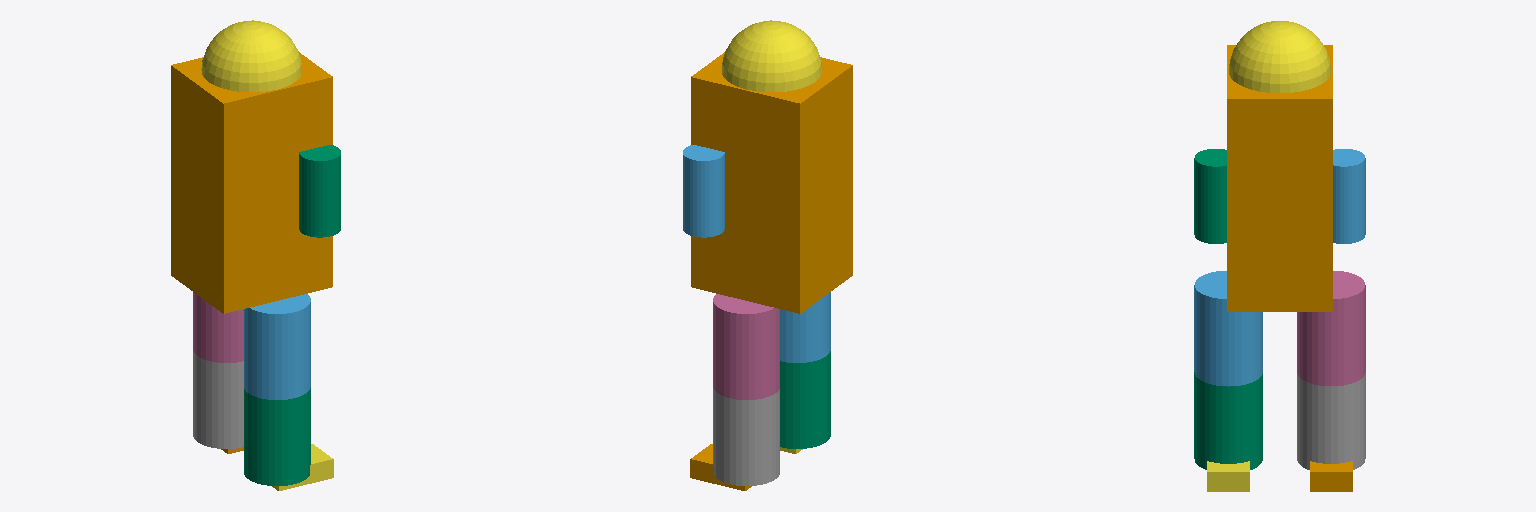
The robot description file, URDF, robot "humanoid_biped":
<?xml version="1.0"?>
<robot name="humanoid_biped">

<!-- ========================================== -->
<!-- 躯干 base_link -->
<!-- ========================================== -->
<link name="base_link">
  <inertial>
    <mass value="8.0"/>
    <inertia ixx="0.3" ixy="0.0" ixz="0.0" iyy="0.4" iyz="0.0" izz="0.2"/>
  </inertial>
  <visual>
    <geometry>
      <box size="0.3 0.25 0.55"/>
    </geometry>
  </visual>
  <collision>
    <geometry>
      <box size="0.3 0.25 0.55"/>
    </geometry>
  </collision>
</link>

<gazebo reference="base_link">
  <material>Gazebo/DarkBlue</material>
  <mu1 value="0.2"/>
  <mu2 value="0.2"/>
  <kp value="1000000.0"/>
  <kd value="100.0"/>
</gazebo>

<!-- ========================================== -->
<!-- 左臂 left_arm_link -->
<!-- ========================================== -->
<link name="left_arm_link">
  <inertial>
    <mass value="1.0"/>
    <inertia ixx="0.01" ixy="0.0" ixz="0.0" iyy="0.01" iyz="0.0" izz="0.05"/>
    <origin xyz="0 0 -0.1"/>
  </inertial>
  <visual>
    <geometry>
      <cylinder radius="0.05" length="0.2"/>
    </geometry>
    <origin xyz="0 0 -0.1"/>
  </visual>
  <collision>
    <geometry>
      <cylinder radius="0.05" length="0.2"/>
    </geometry>
    <origin xyz="0 0 -0.1"/>
  </collision>
</link>

<joint name="left_shoulder_joint" type="revolute">
  <parent link="base_link"/>
  <child link="left_arm_link"/>
  <origin xyz="0.1 0.15 0.1" rpy="0 0 0"/>
  <axis xyz="0 0 1"/>
  <limit lower="-1.57" upper="1.57" effort="50" velocity="2.0"/>
  <dynamics damping="2.0" friction="1.0"/>
</joint>

<!-- ========================================== -->
<!-- 右臂 right_arm_link -->
<!-- ========================================== -->
<link name="right_arm_link">
  <inertial>
    <mass value="1.0"/>
    <inertia ixx="0.01" ixy="0.0" ixz="0.0" iyy="0.01" iyz="0.0" izz="0.05"/>
    <origin xyz="0 0 -0.1"/>
  </inertial>
  <visual>
    <geometry>
      <cylinder radius="0.05" length="0.2"/>
    </geometry>
    <origin xyz="0 0 -0.1"/>
  </visual>
  <collision>
    <geometry>
      <cylinder radius="0.05" length="0.2"/>
    </geometry>
    <origin xyz="0 0 -0.1"/>
  </collision>
</link>

<joint name="right_shoulder_joint" type="revolute">
  <parent link="base_link"/>
  <child link="right_arm_link"/>
  <origin xyz="0.1 -0.15 0.1" rpy="0 0 0"/>
  <axis xyz="0 0 1"/>
  <limit lower="-1.57" upper="1.57" effort="50" velocity="2.0"/>
  <dynamics damping="2.0" friction="1.0"/>
</joint>

<gazebo reference="left_arm_link">
  <material>Gazebo/Green</material>
</gazebo>

<gazebo reference="right_arm_link">
  <material>Gazebo/Green</material>
</gazebo>

<!-- ========================================== -->
<!-- 头部 head_link -->
<!-- ========================================== -->
<link name="head_link">
  <inertial>
    <mass value="1.2"/>
    <inertia ixx="0.02" ixy="0" ixz="0" iyy="0.02" iyz="0" izz="0.02"/>
    <origin xyz="0 0 0"/>
  </inertial>
  <visual>
    <geometry>
      <sphere radius="0.12"/>
    </geometry>
    <origin xyz="0 0 0"/>
  </visual>
  <collision>
    <geometry>
      <sphere radius="0.12"/>
    </geometry>
    <origin xyz="0 0 0"/>
  </collision>
</link>

<joint name="head_joint" type="revolute">
  <parent link="base_link"/>
  <child link="head_link"/>
  <origin xyz="0 0 0.275" rpy="0 0 0"/>
  <axis xyz="0 1 0"/>
  <limit lower="-0.5" upper="0.5" effort="20" velocity="1.0"/>
  <dynamics damping="1.0" friction="0.5"/>
</joint>

<gazebo reference="head_link">
  <material>Gazebo/Orange</material>
  <mu1 value="0.2"/>
  <mu2 value="0.2"/>
</gazebo>

<!-- ========================================== -->
<!-- 双目相机：left_camera + right_camera -->
<!-- ========================================== -->
<link name="left_camera_link">
  <inertial>
    <mass value="0.01"/>
    <inertia ixx="0.0001" ixy="0" ixz="0" iyy="0.0001" iyz="0" izz="0.0001"/>
    <origin xyz="0 0 0"/>
  </inertial>
  <visual>
    <geometry>
      <box size="0.02 0.02 0.02"/>
    </geometry>
    <origin xyz="0 0 0"/>
  </visual>
  <collision>
    <geometry>
      <box size="0.02 0.02 0.02"/>
    </geometry>
    <origin xyz="0 0 0"/>
  </collision>
</link>

<link name="right_camera_link">
  <inertial>
    <mass value="0.01"/>
    <inertia ixx="0.0001" ixy="0" ixz="0" iyy="0.0001" iyz="0" izz="0.0001"/>
    <origin xyz="0 0 0"/>
  </inertial>
  <visual>
    <geometry>
      <box size="0.02 0.02 0.02"/>
    </geometry>
    <origin xyz="0 0 0"/>
  </visual>
  <collision>
    <geometry>
      <box size="0.02 0.02 0.02"/>
    </geometry>
    <origin xyz="0 0 0"/>
  </collision>
</link>

<joint name="left_camera_joint" type="fixed">
  <parent link="head_link"/>
  <child link="left_camera_link"/>
  <origin xyz="0.06 0.08 0" rpy="0 0 0"/>
</joint>

<joint name="right_camera_joint" type="fixed">
  <parent link="head_link"/>
  <child link="right_camera_link"/>
  <origin xyz="0.06 -0.08 0" rpy="0 0 0"/>
</joint>

<gazebo reference="left_camera_link">
  <material>Gazebo/Red</material>
  <mu1 value="0.1"/>
  <mu2 value="0.1"/>
</gazebo>
<gazebo reference="right_camera_link">
  <material>Gazebo/Red</material>
  <mu1 value="0.1"/>
  <mu2 value="0.1"/>
</gazebo>

<!-- 左目相机插件 -->
<gazebo reference="left_camera_link">
  <sensor name="left_camera" type="camera">
    <always_on>true</always_on>
    <update_rate>30</update_rate>
    <camera>
      <width>640</width>
      <height>480</height>
      <hfov>60</hfov>
    </camera>
    <plugin name="left_camera_plugin" filename="libgazebo_ros_camera.so">
      <ros>
        <namespace>/left_camera</namespace>
      </ros>
    </plugin>
  </sensor>
</gazebo>

<!-- 右目相机插件 -->
<gazebo reference="right_camera_link">
  <sensor name="right_camera" type="camera">
    <always_on>true</always_on>
    <update_rate>30</update_rate>
    <camera>
      <width>640</width>
      <height>480</height>
      <hfov>60</hfov>
    </camera>
    <plugin name="right_camera_plugin" filename="libgazebo_ros_camera.so">
      <ros>
        <namespace>/right_camera</namespace>
      </ros>
    </plugin>
  </sensor>
</gazebo>

<!-- ========================================== -->
<!-- 左大腿 left_thigh_link -->
<!-- ========================================== -->
<link name="left_thigh_link">
  <inertial>
    <mass value="1.5"/>
    <inertia ixx="0.02" ixy="0.0" ixz="0.0" iyy="0.02" iyz="0.0" izz="0.1"/>
    <origin xyz="0 0 -0.1125"/>
  </inertial>
  <visual>
    <geometry>
      <cylinder radius="0.08" length="0.225"/>
    </geometry>
    <origin xyz="0 0 -0.1125"/>
  </visual>
  <collision>
    <geometry>
      <cylinder radius="0.08" length="0.225"/>
    </geometry>
    <origin xyz="0 0 -0.1125"/>
  </collision>
</link>

<joint name="left_hip_joint" type="revolute">
  <parent link="base_link"/>
  <child link="left_thigh_link"/>
  <origin xyz="0 0.12 -0.275" rpy="0 0 0"/>
  <axis xyz="0 0 1"/>
  <limit lower="-1.57" upper="1.57" effort="100" velocity="3.0"/>
  <dynamics damping="5.0" friction="1.0"/>
</joint>

<!-- ========================================== -->
<!-- 左小腿 left_shin_link -->
<!-- ========================================== -->
<link name="left_shin_link">
  <inertial>
    <mass value="1.5"/>
    <inertia ixx="0.02" ixy="0.0" ixz="0.0" iyy="0.02" iyz="0.0" izz="0.1"/>
    <origin xyz="0 0 -0.1125"/>
  </inertial>
  <visual>
    <geometry>
      <cylinder radius="0.08" length="0.225"/>
    </geometry>
    <origin xyz="0 0 -0.1125"/>
  </visual>
  <collision>
    <geometry>
      <cylinder radius="0.08" length="0.225"/>
    </geometry>
    <origin xyz="0 0 -0.1125"/>
  </collision>
</link>

<joint name="left_knee_joint" type="revolute">
  <parent link="left_thigh_link"/>
  <child link="left_shin_link"/>
  <origin xyz="0 0 -0.225" rpy="0 0 0"/>
  <axis xyz="0 0 1"/>
  <limit lower="0" upper="1.57" effort="100" velocity="3.0"/>
  <dynamics damping="3.0" friction="1.0"/>
</joint>

<!-- ========================================== -->
<!-- 左脚 left_foot_link -->
<!-- ========================================== -->
<link name="left_foot_link">
  <inertial>
    <mass value="0.8"/>
    <inertia ixx="0.01" ixy="0.0" ixz="0.0" iyy="0.02" iyz="0.0" izz="0.02"/>
    <origin xyz="0.05 0 0"/>
  </inertial>
  <visual>
    <geometry>
      <box size="0.15 0.1 0.05"/>
    </geometry>
    <origin xyz="0.05 0 0"/>
  </visual>
  <collision>
    <geometry>
      <box size="0.15 0.1 0.05"/>
    </geometry>
    <origin xyz="0.05 0 0"/>
  </collision>
</link>

<joint name="left_ankle_joint" type="revolute">
  <parent link="left_shin_link"/>
  <child link="left_foot_link"/>
  <origin xyz="0 0 -0.225" rpy="0 0 0"/>
  <axis xyz="0 1 0"/>
  <limit lower="-0.5" upper="0.5" effort="50" velocity="2.0"/>
  <dynamics damping="2.0" friction="1.0"/>
</joint>

<gazebo reference="left_thigh_link">
  <material>Gazebo/Gray</material>
</gazebo>

<gazebo reference="left_shin_link">
  <material>Gazebo/Gray</material>
</gazebo>

<gazebo reference="left_foot_link">
  <material>Gazebo/White</material>
  <mu1 value="1.0"/>
  <mu2 value="1.0"/>
  <kp value="1000000.0"/>
  <kd value="100.0"/>
</gazebo>

<!-- ========================================== -->
<!-- 右大腿 right_thigh_link -->
<!-- ========================================== -->
<link name="right_thigh_link">
  <inertial>
    <mass value="1.5"/>
    <inertia ixx="0.02" ixy="0.0" ixz="0.0" iyy="0.02" iyz="0.0" izz="0.1"/>
    <origin xyz="0 0 -0.1125"/>
  </inertial>
  <visual>
    <geometry>
      <cylinder radius="0.08" length="0.225"/>
    </geometry>
    <origin xyz="0 0 -0.1125"/>
  </visual>
  <collision>
    <geometry>
      <cylinder radius="0.08" length="0.225"/>
    </geometry>
    <origin xyz="0 0 -0.1125"/>
  </collision>
</link>

<joint name="right_hip_joint" type="revolute">
  <parent link="base_link"/>
  <child link="right_thigh_link"/>
  <origin xyz="0 -0.12 -0.275" rpy="0 0 0"/>
  <axis xyz="0 0 1"/>
  <limit lower="-1.57" upper="1.57" effort="100" velocity="3.0"/>
  <dynamics damping="5.0" friction="1.0"/>
</joint>

<!-- ========================================== -->
<!-- 右小腿 right_shin_link -->
<!-- ========================================== -->
<link name="right_shin_link">
  <inertial>
    <mass value="1.5"/>
    <inertia ixx="0.02" ixy="0.0" ixz="0.0" iyy="0.02" iyz="0.0" izz="0.1"/>
    <origin xyz="0 0 -0.1125"/>
  </inertial>
  <visual>
    <geometry>
      <cylinder radius="0.08" length="0.225"/>
    </geometry>
    <origin xyz="0 0 -0.1125"/>
  </visual>
  <collision>
    <geometry>
      <cylinder radius="0.08" length="0.225"/>
    </geometry>
    <origin xyz="0 0 -0.1125"/>
  </collision>
</link>

<joint name="right_knee_joint" type="revolute">
  <parent link="right_thigh_link"/>
  <child link="right_shin_link"/>
  <origin xyz="0 0 -0.225" rpy="0 0 0"/>
  <axis xyz="0 0 1"/>
  <limit lower="0" upper="1.57" effort="100" velocity="3.0"/>
  <dynamics damping="3.0" friction="1.0"/>
</joint>

<!-- ========================================== -->
<!-- 右脚 right_foot_link -->
<!-- ========================================== -->
<link name="right_foot_link">
  <inertial>
    <mass value="0.8"/>
    <inertia ixx="0.01" ixy="0.0" ixz="0.0" iyy="0.02" iyz="0.0" izz="0.02"/>
    <origin xyz="0.05 0 0"/>
  </inertial>
  <visual>
    <geometry>
      <box size="0.15 0.1 0.05"/>
    </geometry>
    <origin xyz="0.05 0 0"/>
  </visual>
  <collision>
    <geometry>
      <box size="0.15 0.1 0.05"/>
    </geometry>
    <origin xyz="0.05 0 0"/>
  </collision>
</link>

<joint name="right_ankle_joint" type="revolute">
  <parent link="right_shin_link"/>
  <child link="right_foot_link"/>
  <origin xyz="0 0 -0.225" rpy="0 0 0"/>
  <axis xyz="0 1 0"/>
  <limit lower="-0.5" upper="0.5" effort="50" velocity="2.0"/>
  <dynamics damping="2.0" friction="1.0"/>
</joint>

<gazebo reference="right_thigh_link">
  <material>Gazebo/Gray</material>
</gazebo>

<gazebo reference="right_shin_link">
  <material>Gazebo/Gray</material>
</gazebo>

<gazebo reference="right_foot_link">
  <material>Gazebo/White</material>
  <mu1 value="1.0"/>
  <mu2 value="1.0"/>
  <kp value="1000000.0"/>
  <kd value="100.0"/>
</gazebo>

</robot>

--- What the picture shows (computed from the rendered views, not written in the file) ---
3 views of the same robot in one strip: view 1: azimuth 30°, elevation 25°; view 2: azimuth 150°, elevation 25°; view 3: azimuth 270°, elevation 25° (orthographic).
Robot: humanoid_biped — 12 links, 11 joints (9 revolute, 2 fixed); root link base_link; default pose: every joint at zero.
Visible links, largest first — view 1: base_link, right_thigh_link, right_shin_link, head_link, left_shin_link, right_arm_link, left_thigh_link, right_foot_link; view 2: base_link, left_thigh_link, left_shin_link, head_link, right_shin_link, left_arm_link, right_thigh_link, left_foot_link; view 3: base_link, left_thigh_link, right_thigh_link, head_link, left_shin_link, right_shin_link, left_arm_link, right_arm_link, left_foot_link, right_foot_link.
Boxes of the visible links, x1,y1,x2,y2 form: base_link: [171, 52, 332, 313]; right_thigh_link: [244, 294, 310, 399]; right_shin_link: [244, 388, 310, 485]; head_link: [201, 20, 301, 91]; left_shin_link: [193, 351, 243, 448]; right_arm_link: [299, 145, 340, 237]; left_thigh_link: [193, 292, 243, 362]; right_foot_link: [272, 444, 333, 490]; base_link: [691, 52, 852, 313]; left_thigh_link: [713, 294, 779, 399]; left_shin_link: [713, 388, 779, 485]; head_link: [722, 20, 822, 91]; right_shin_link: [780, 351, 830, 448]; left_arm_link: [683, 145, 724, 237]; right_thigh_link: [780, 292, 830, 362]; left_foot_link: [690, 444, 751, 490]; base_link: [1227, 45, 1332, 311]; left_thigh_link: [1297, 271, 1365, 386]; right_thigh_link: [1194, 271, 1262, 386]; head_link: [1229, 21, 1330, 92]; left_shin_link: [1297, 372, 1365, 469]; right_shin_link: [1194, 372, 1262, 469]; left_arm_link: [1333, 149, 1365, 243]; right_arm_link: [1194, 149, 1226, 243]; left_foot_link: [1310, 461, 1352, 491]; right_foot_link: [1207, 461, 1249, 491].
Size in the robot's own frame: 0.3 by 0.4 by 1.15 metres.
Geometry: primitives only (box / cylinder / sphere), no mesh files.
